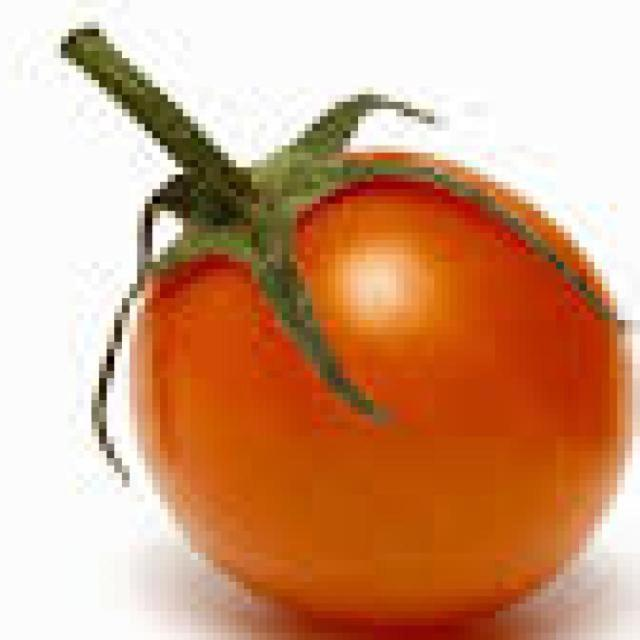Healthy Fruit: (91, 85, 421, 427)
